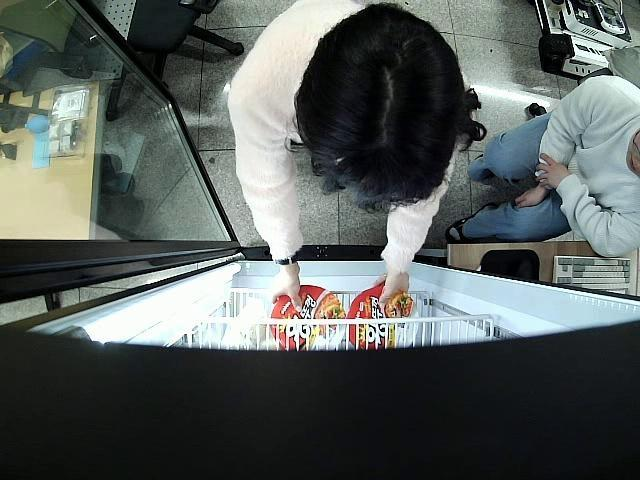10_wangTtukkeong: (270, 286, 346, 353), (347, 284, 420, 352)
